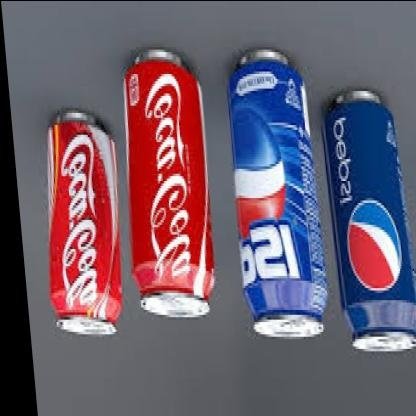trash: (229, 49, 326, 336), (124, 49, 213, 316), (325, 90, 415, 350), (49, 109, 120, 334)
